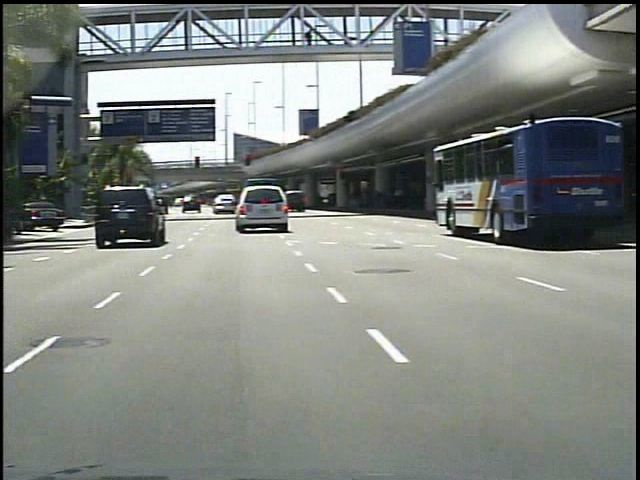person: (291, 27, 309, 53)
